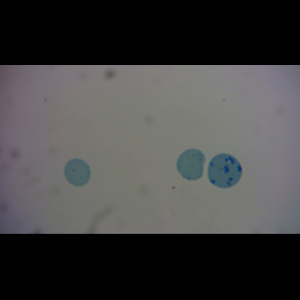aggregate reticulocyte: (206, 152, 244, 189)
punctate reticulocyte: (176, 147, 206, 181), (63, 158, 92, 188)
